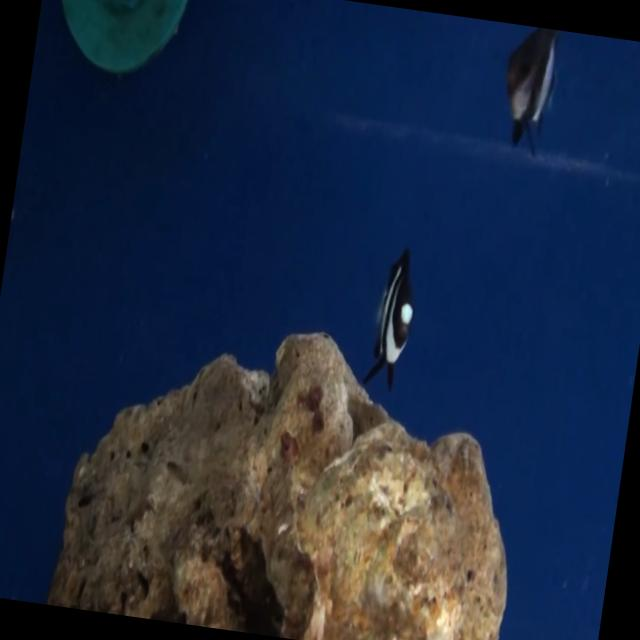ThreeStripedDamselfish: (360, 242, 426, 405)
